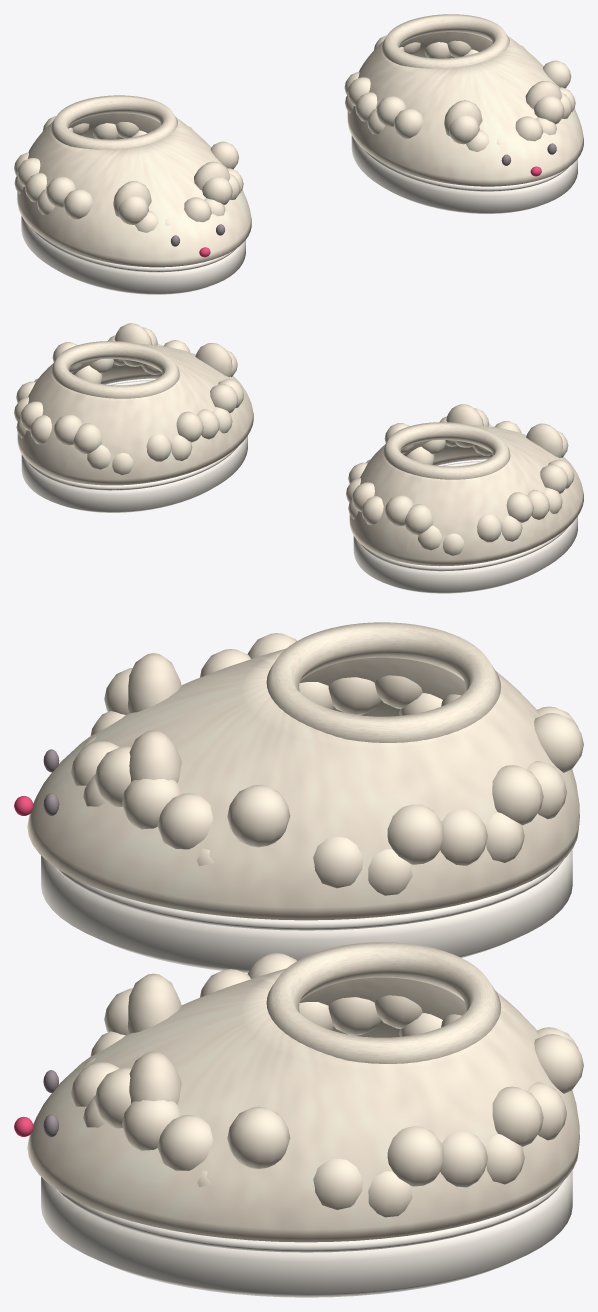
Rendered from restart_slippers_cloud_penguin.glb.
3 views of the same model, one above another, from view 1: azimuth 30°, elevation 25°; view 2: azimuth 150°, elevation 25°; view 3: azimuth 270°, elevation 25° (orthographic). The views are drawn at different scales.
Parts seen in each view (by area): view 1: Calzado · Left · slippers_cloud, Calzado · Right · slippers_cloud; view 2: Calzado · Left · slippers_cloud, Calzado · Right · slippers_cloud; view 3: Calzado · Left · slippers_cloud, Calzado · Right · slippers_cloud.
Part boxes in pixels (left/top/right/bottom): Calzado · Left · slippers_cloud: left=344, top=14, right=583, bottom=213; Calzado · Right · slippers_cloud: left=14, top=95, right=251, bottom=294; Calzado · Left · slippers_cloud: left=14, top=323, right=253, bottom=512; Calzado · Right · slippers_cloud: left=346, top=404, right=583, bottom=593; Calzado · Left · slippers_cloud: left=14, top=942, right=583, bottom=1297; Calzado · Right · slippers_cloud: left=14, top=622, right=583, bottom=973.
Size of the model in its own units: 0.6064 by 0.1235 by 0.289.
4 materials, 2 textured.
